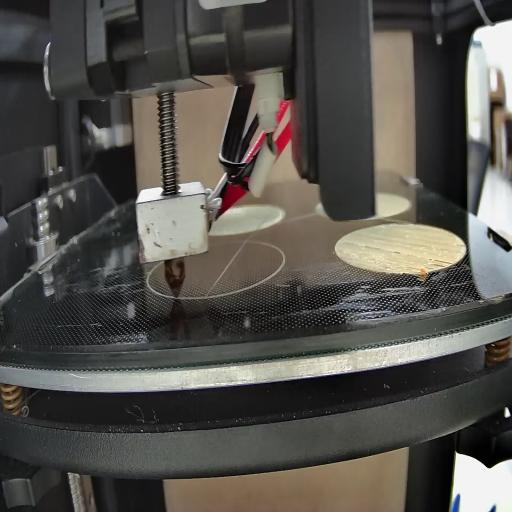under_extrusion: (362, 244, 402, 258), (423, 254, 453, 272), (404, 264, 419, 275), (452, 242, 466, 252)
